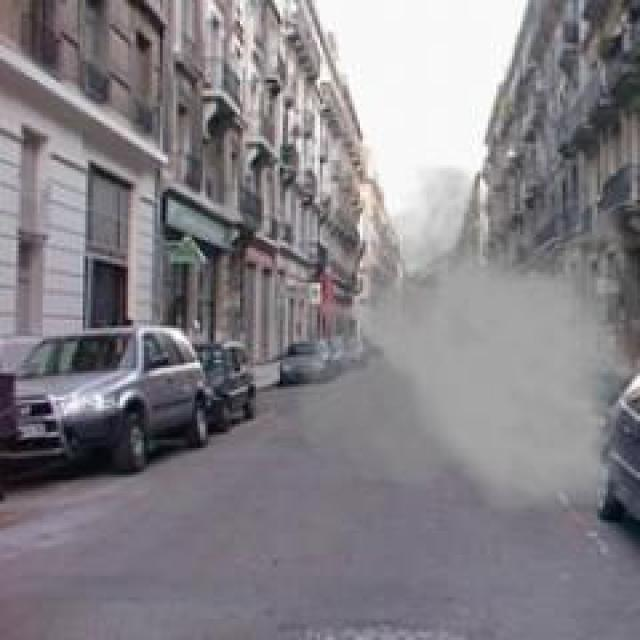smoke: (290, 165, 638, 531)
